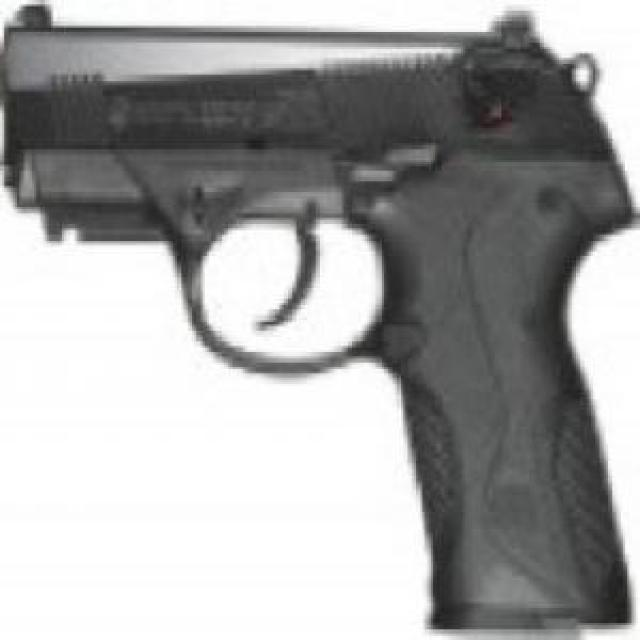pistol: (9, 17, 634, 636)
